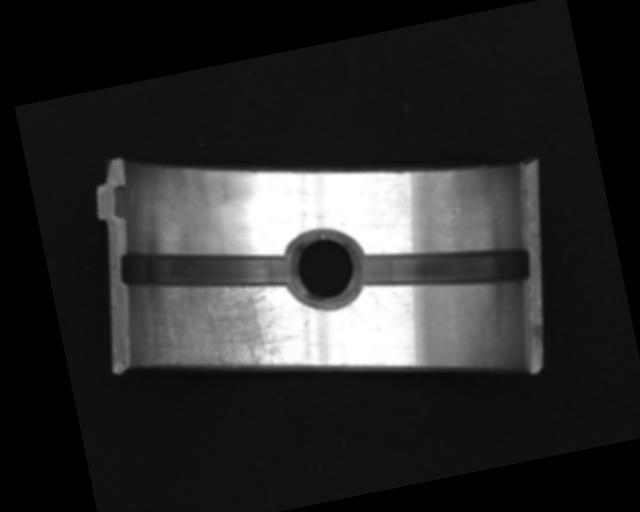gap: (114, 220, 294, 319), (360, 224, 535, 311)
hole: (279, 227, 366, 309)
scratch: (123, 260, 299, 394)
